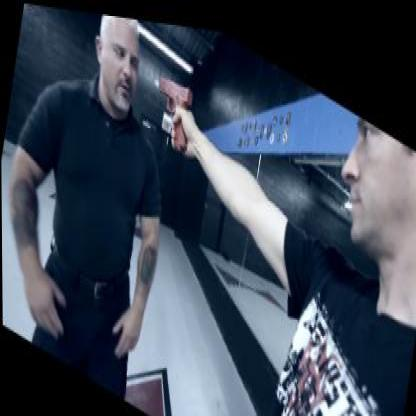pistol: (150, 62, 195, 146)
